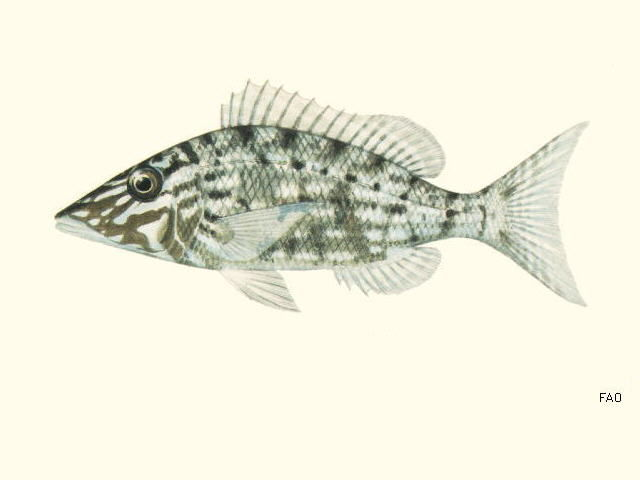fish: (54, 80, 593, 313)
